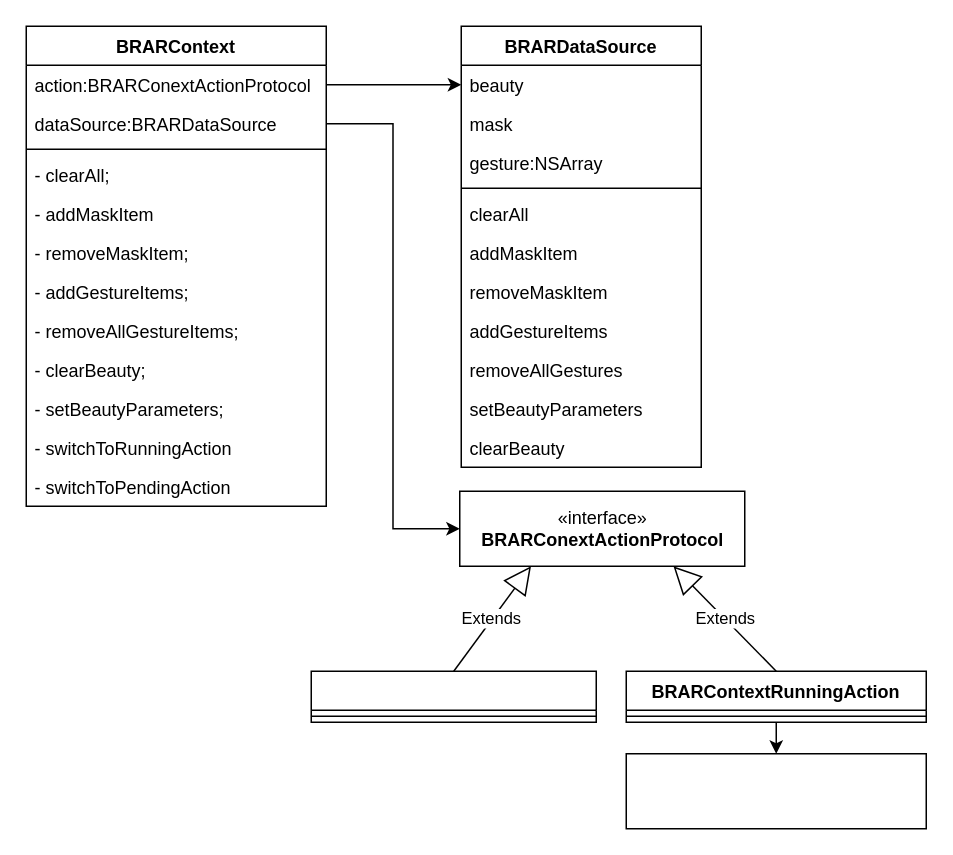
Image size: 953x855. Some labels were removed from this diagram. Each missing label, with the centre of its shape:
BRARContextPendingAction: [453,696]
BRARProvder: [775,790]
